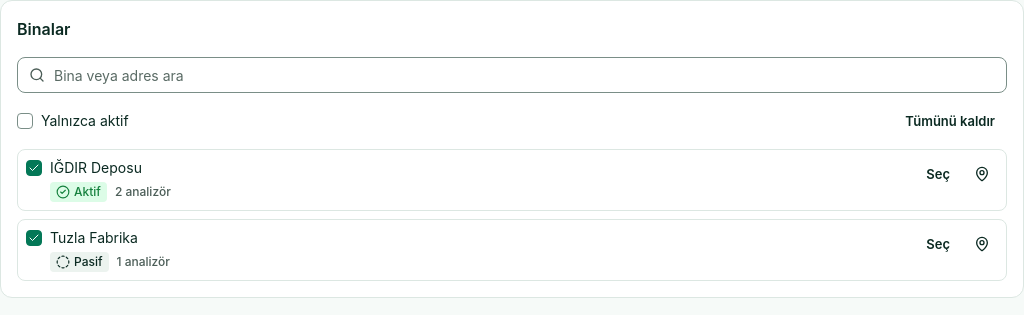
Test: BuildingListView › searches case- and diacritic-insensitively in Turkish
In the search field labelled "Bina veya adres ara": (512, 75) top-left (17, 57), bottom-right (1007, 93), type "ığdır"
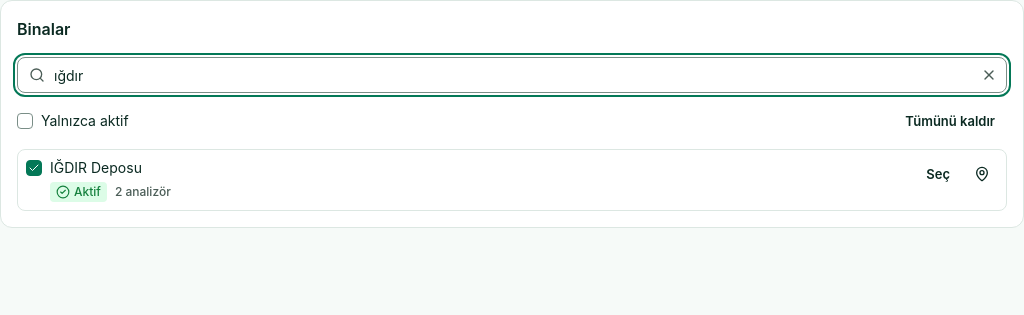
Expected: the checkbox named "IĞDIR Deposu" next to "IĞDIR Deposu" is shown, top-left (26, 160), bottom-right (42, 176)
Expected: the label "Tuzla Fabrika" is gone
